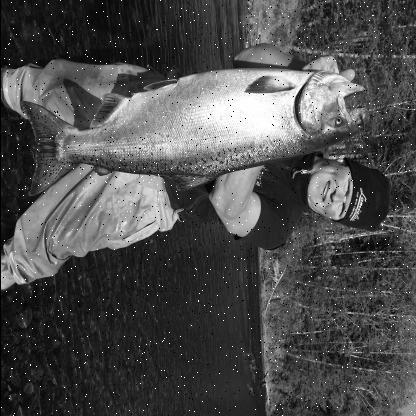fish: (20, 68, 368, 196)
